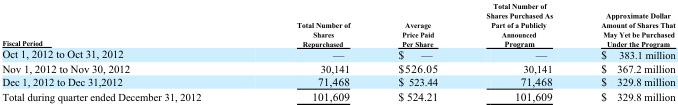table: (1, 1, 674, 102)
table column: (1, 1, 248, 102), (248, 1, 373, 102), (461, 1, 576, 102), (576, 1, 674, 102), (373, 1, 461, 102)
table column header: (1, 1, 674, 61)
table row: (1, 1, 674, 61), (1, 74, 674, 88), (1, 88, 674, 102), (1, 61, 674, 74)
